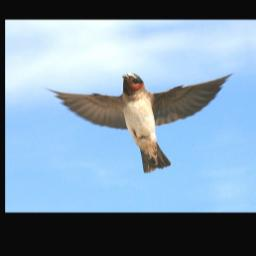Swallow: (41, 61, 245, 184)
